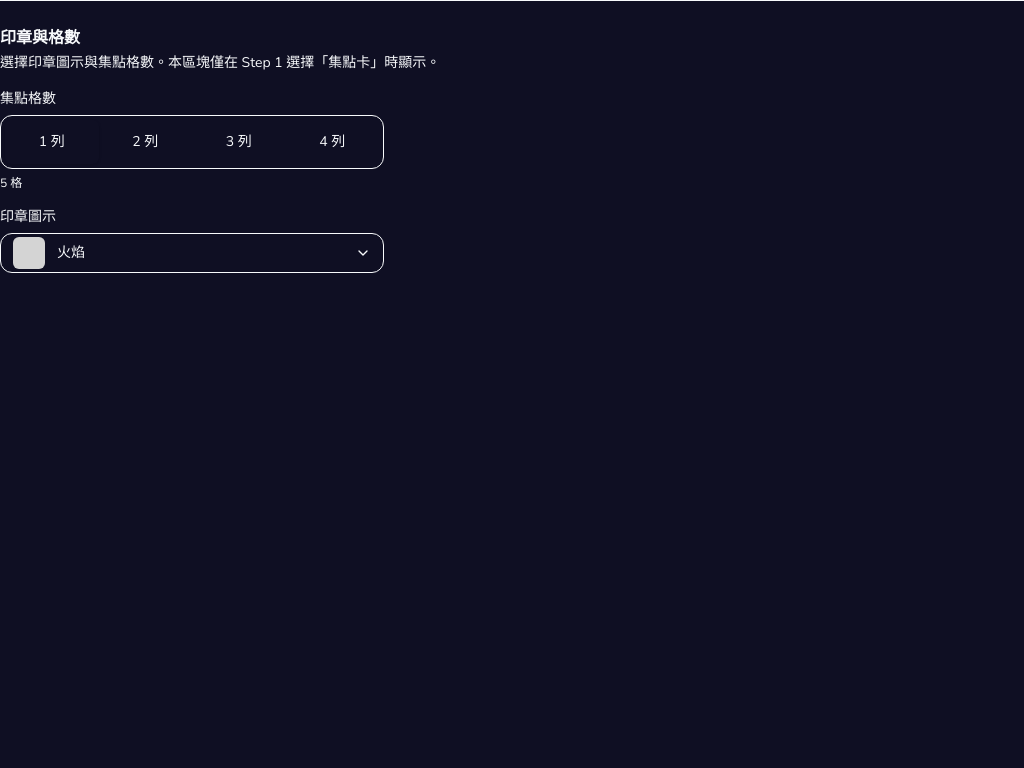
Test: Step3StampGrid — StampIconPicker (mobile) › marks the active icon on mobile (data-state + aria-checked)
Click the button "火焰": (29, 253) [0,233,384,273]
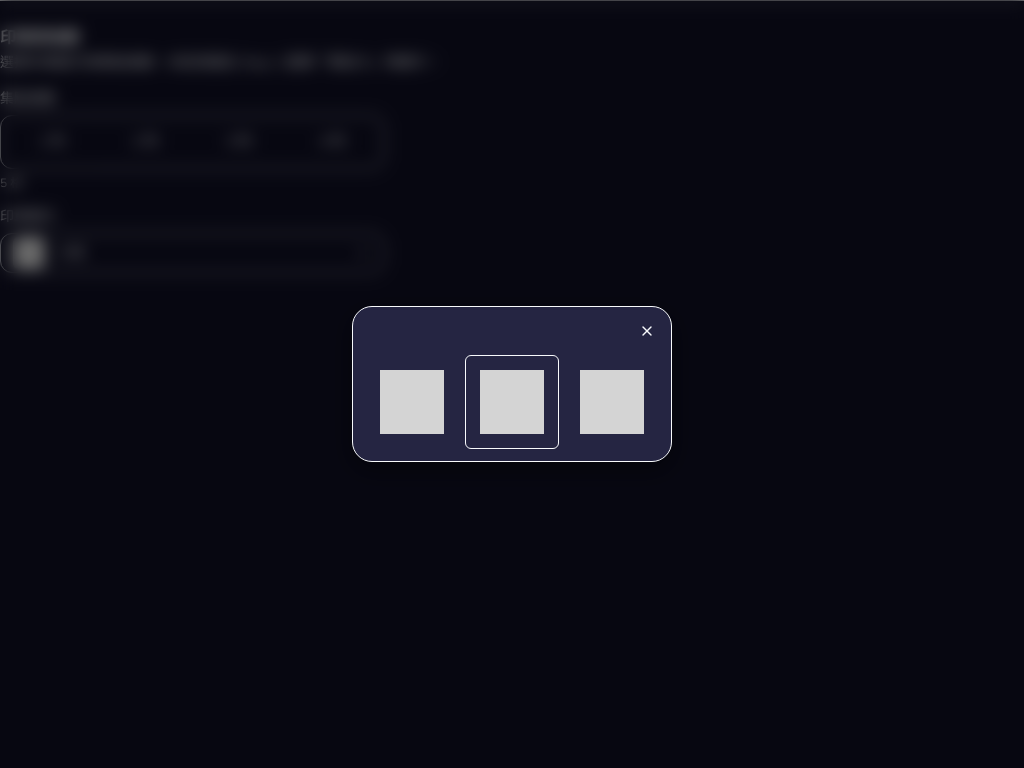
Now the dialog is shown
